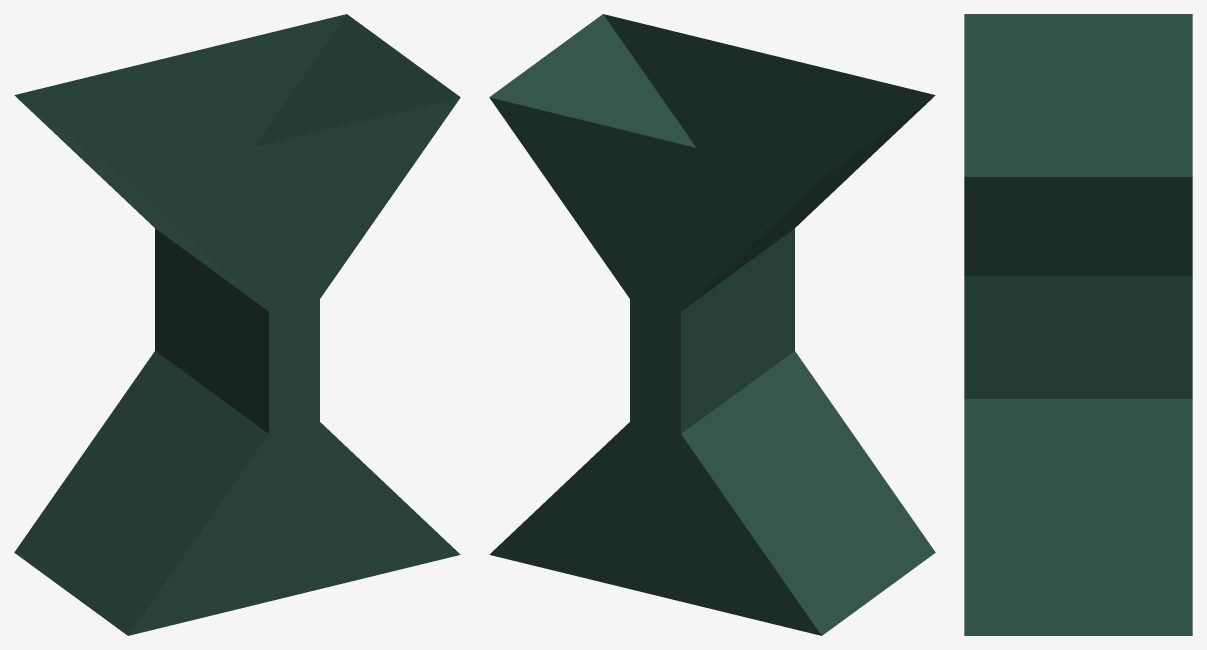
File: W2_WallWindow1_4m_Frame_Top.fbx
The picture shows the model from 3 angles, left to right: view 1: azimuth 30°, elevation 25°; view 2: azimuth 150°, elevation 25°; view 3: azimuth 270°, elevation 25°; orthographic projection.
Visible parts, largest first — view 1: W2_WallWindow1_4m_Frame_Top.001; view 2: W2_WallWindow1_4m_Frame_Top.001; view 3: W2_WallWindow1_4m_Frame_Top.001.
Boxes of the visible parts, x1,y1,x2,y2 form: W2_WallWindow1_4m_Frame_Top.001: (14,14,460,635); W2_WallWindow1_4m_Frame_Top.001: (489,14,935,635); W2_WallWindow1_4m_Frame_Top.001: (964,14,1192,635).
Bounding box in the file's own units: 0.3572 × 0.4692 × 0.2117.
